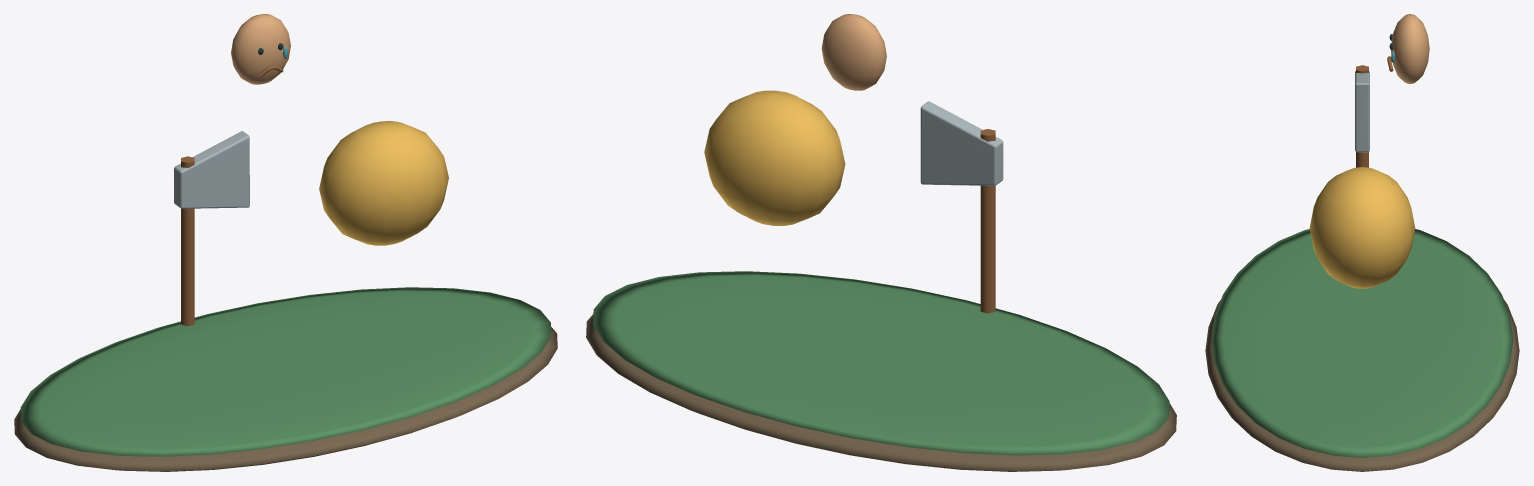
File: complete-third-hardship-bitterness.glb
3 renders of one model, left to right at view 1: azimuth 30°, elevation 25°; view 2: azimuth 150°, elevation 25°; view 3: azimuth 270°, elevation 25°, orthographic. The views are drawn at different scales.
Parts seen in each view (by area): view 1: complete-third-hardship-bitterness_surface_01, complete-third-hardship-bitterness_surface_04, complete-third-hardship-bitterness_surface_00, complete-third-hardship-bitterness_surface_03, complete-third-hardship-bitterness_surface_05, complete-third-hardship-bitterness_surface_02; view 2: complete-third-hardship-bitterness_surface_01, complete-third-hardship-bitterness_surface_04, complete-third-hardship-bitterness_surface_00, complete-third-hardship-bitterness_surface_03, complete-third-hardship-bitterness_surface_05, complete-third-hardship-bitterness_surface_02; view 3: complete-third-hardship-bitterness_surface_01, complete-third-hardship-bitterness_surface_04, complete-third-hardship-bitterness_surface_00, complete-third-hardship-bitterness_surface_05, complete-third-hardship-bitterness_surface_03, complete-third-hardship-bitterness_surface_02.
Boxes of the visible parts, <box> form: complete-third-hardship-bitterness_surface_01: <box>20,287,551,456</box>; complete-third-hardship-bitterness_surface_04: <box>319,121,448,245</box>; complete-third-hardship-bitterness_surface_00: <box>14,327,557,471</box>; complete-third-hardship-bitterness_surface_03: <box>174,131,249,208</box>; complete-third-hardship-bitterness_surface_05: <box>231,14,290,84</box>; complete-third-hardship-bitterness_surface_02: <box>181,65,283,326</box>; complete-third-hardship-bitterness_surface_01: <box>593,271,1169,455</box>; complete-third-hardship-bitterness_surface_04: <box>704,90,845,225</box>; complete-third-hardship-bitterness_surface_00: <box>586,314,1176,471</box>; complete-third-hardship-bitterness_surface_03: <box>920,101,1003,185</box>; complete-third-hardship-bitterness_surface_05: <box>821,14,886,90</box>; complete-third-hardship-bitterness_surface_02: <box>980,129,995,313</box>; complete-third-hardship-bitterness_surface_01: <box>1211,229,1513,457</box>; complete-third-hardship-bitterness_surface_04: <box>1309,167,1415,288</box>; complete-third-hardship-bitterness_surface_00: <box>1205,300,1519,471</box>; complete-third-hardship-bitterness_surface_05: <box>1391,14,1429,83</box>; complete-third-hardship-bitterness_surface_03: <box>1355,71,1369,152</box>; complete-third-hardship-bitterness_surface_02: <box>1356,56,1393,167</box>.
Size of the model in its own units: 4.56 by 3.07 by 2.5.
